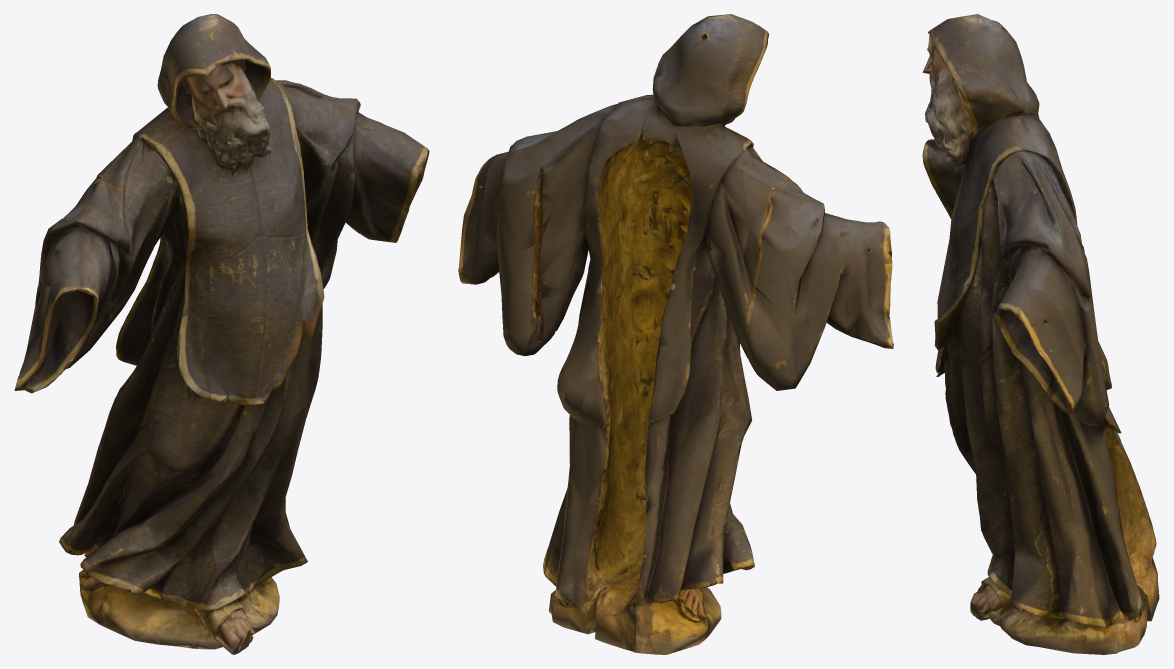
The model's file is fpaula.glb.
The picture shows the model from 3 angles, left to right: view 1: azimuth 30°, elevation 25°; view 2: azimuth 150°, elevation 25°; view 3: azimuth 270°, elevation 25°; orthographic projection. The views are drawn at different scales.
Parts seen in each view (by area): view 1: Object_2; view 2: Object_2; view 3: Object_2.
Boxes of the visible parts, x1,y1,x2,y2 form: Object_2: (14, 14, 429, 654); Object_2: (458, 14, 893, 654); Object_2: (922, 14, 1159, 654).
Bounding box in the file's own units: 0.6127 × 0.8441 × 0.3101.
Materials: 1 (1 with a texture image).
